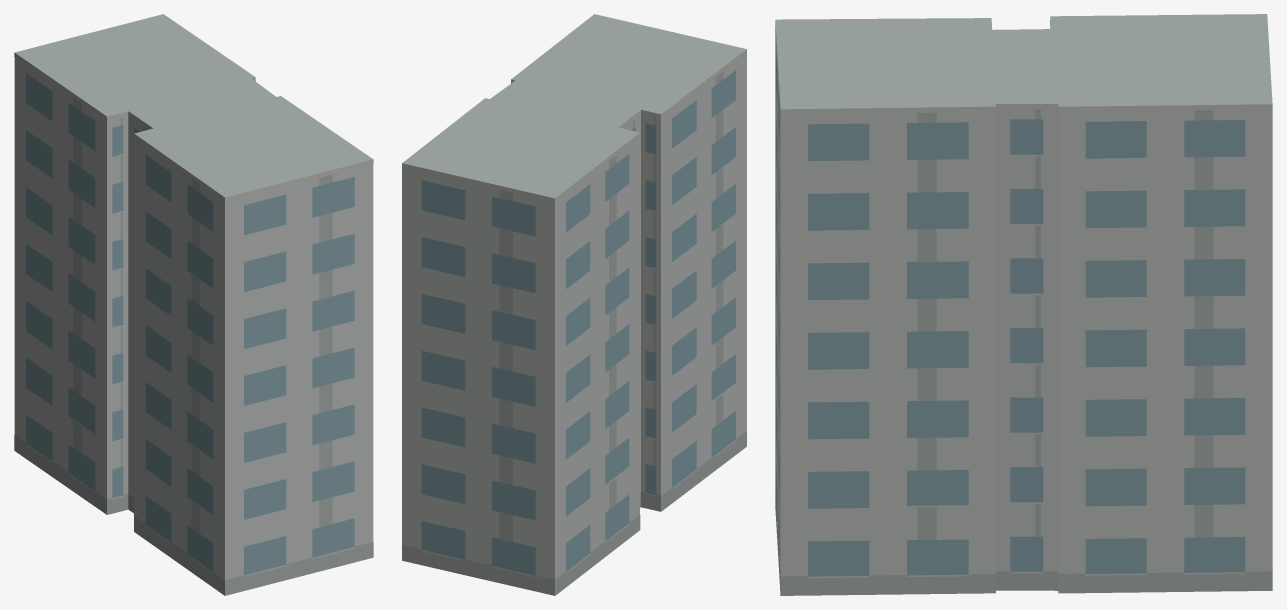
File: survey-upis-32567569.glb
3 renders of one model, left to right at view 1: azimuth 30°, elevation 25°; view 2: azimuth 150°, elevation 25°; view 3: azimuth 270°, elevation 25°, orthographic. The views are drawn at different scales.
Visible parts, largest first — view 1: survey-upis-32567569.tmp; view 2: survey-upis-32567569.tmp; view 3: survey-upis-32567569.tmp.
Part boxes in pixels (left/top/right/bottom): survey-upis-32567569.tmp: left=14, top=14, right=373, bottom=595; survey-upis-32567569.tmp: left=402, top=14, right=746, bottom=595; survey-upis-32567569.tmp: left=775, top=14, right=1272, bottom=595.
Bounding box in the file's own units: 9.29 × 22.1 × 20.48.
